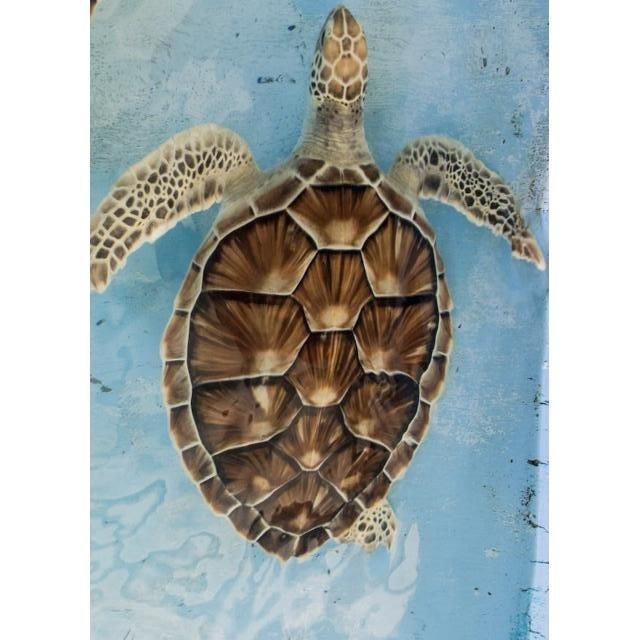turtle: (92, 6, 545, 563)
